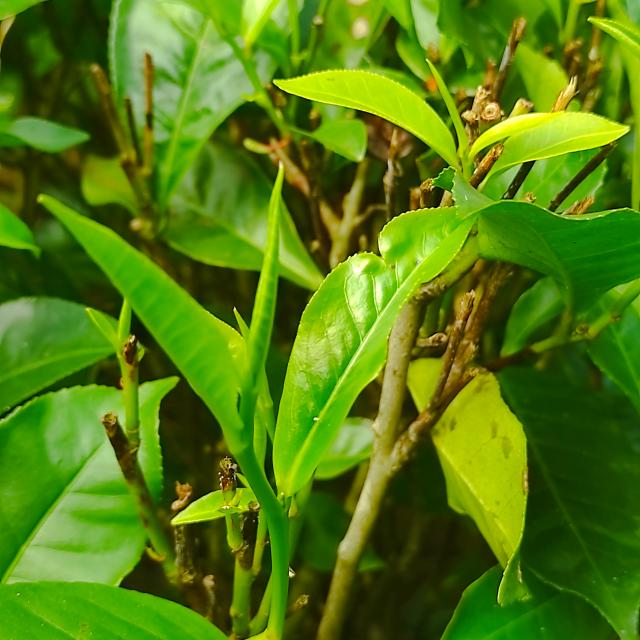unopened_leaf: (234, 154, 290, 427), (228, 303, 287, 444), (421, 49, 476, 161), (116, 292, 138, 350)
